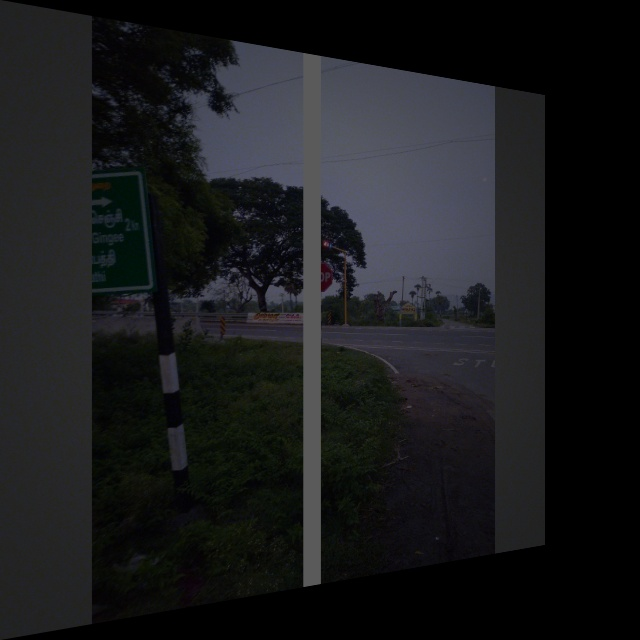Stop: (303, 260, 333, 292)
